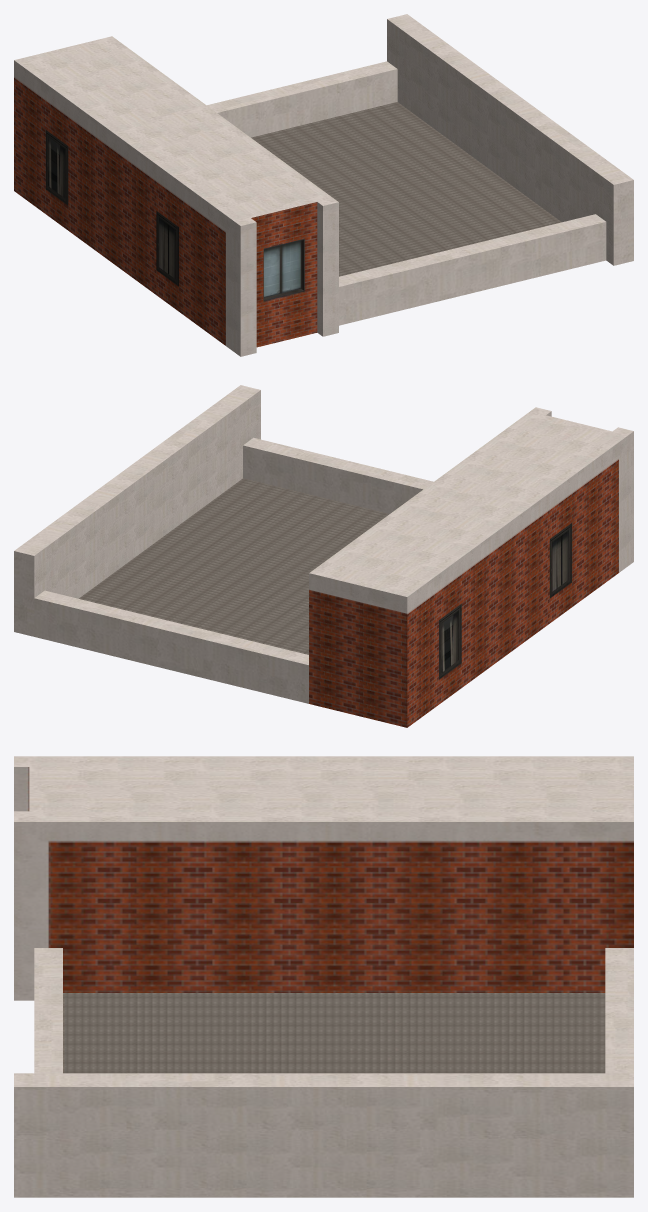
File: building01_3f.fbx
3 renders of one model, top to bottom at view 1: azimuth 30°, elevation 25°; view 2: azimuth 150°, elevation 25°; view 3: azimuth 270°, elevation 25°, orthographic. The views are drawn at different scales.
Parts seen in each view (by area): view 1: polySurface14, polySurface11, polySurface13; view 2: polySurface14, polySurface11, polySurface13; view 3: polySurface14, polySurface13, polySurface11.
Boxes of the visible parts, x1,y1,x2,y2 form: polySurface14: (14,36,338,356); polySurface11: (207,61,606,325); polySurface13: (387,14,633,265); polySurface14: (309,407,633,727); polySurface11: (34,437,433,703); polySurface13: (14,385,260,636); polySurface14: (14,756,633,1000); polySurface13: (14,1073,633,1197); polySurface11: (34,948,633,1073).
Size of the model in its own units: 801 by 255 by 800.
2 materials, 2 textured.
